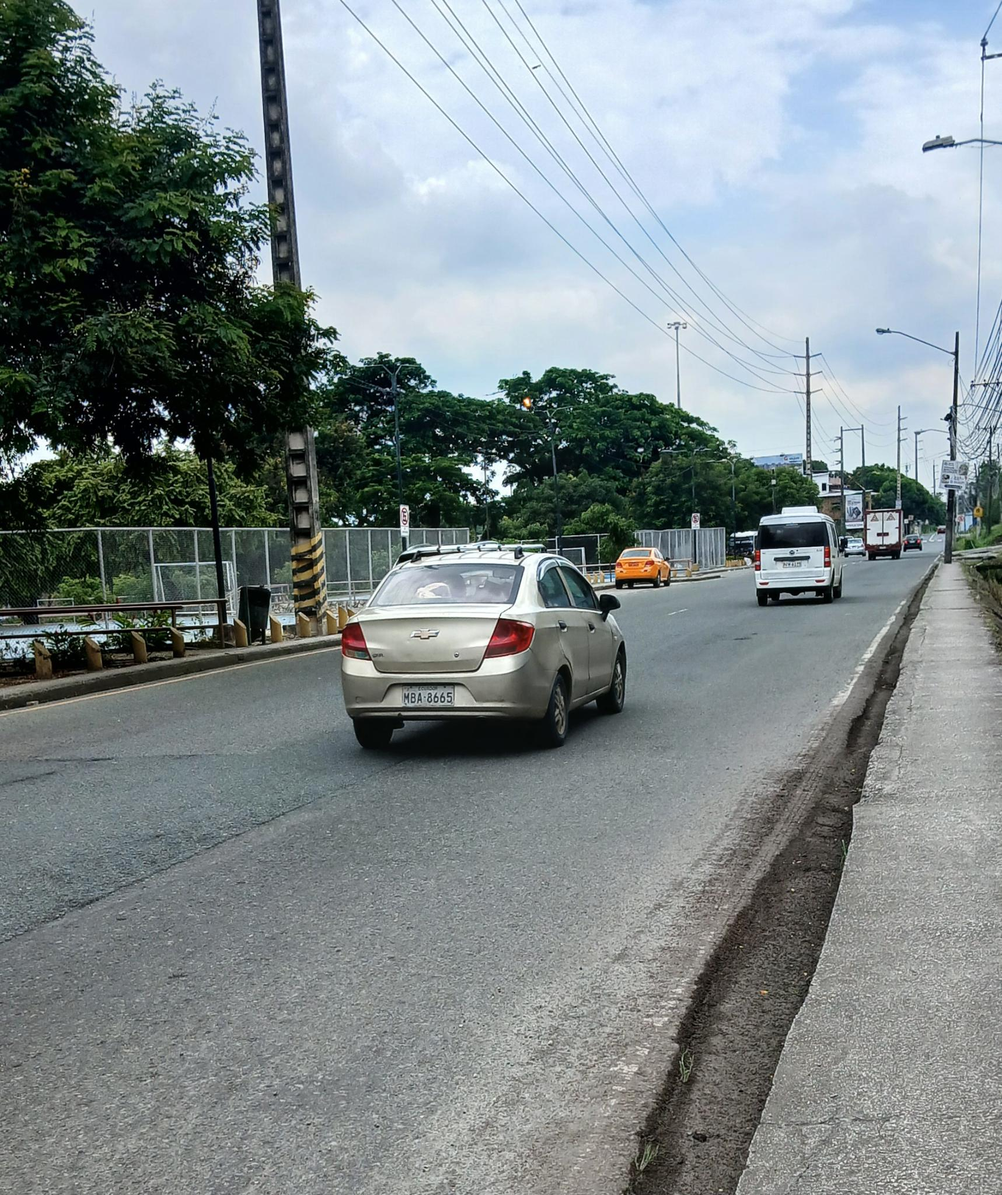license_plate: (402, 686, 455, 707), (780, 561, 802, 568)
